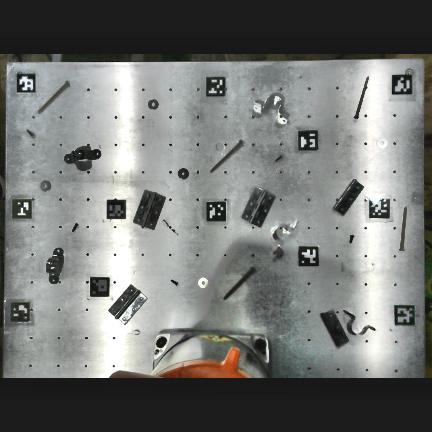black_screw: (170, 280, 180, 286), (72, 223, 78, 232), (348, 235, 353, 242), (275, 156, 279, 161), (29, 133, 33, 137)
clamp: (253, 96, 285, 124), (272, 221, 297, 255), (342, 310, 374, 335), (47, 248, 63, 284), (64, 149, 100, 163)
golden_screw: (210, 141, 242, 172), (223, 268, 254, 299), (37, 81, 68, 112), (353, 77, 368, 118), (399, 207, 405, 251)
hinge: (108, 285, 146, 324), (240, 188, 274, 227), (132, 191, 164, 229), (333, 179, 362, 215), (320, 310, 347, 346)
marker: (394, 304, 415, 325), (12, 198, 32, 219), (370, 198, 390, 218), (299, 246, 319, 266), (298, 130, 318, 150), (206, 75, 226, 95), (10, 300, 29, 321), (207, 201, 226, 222), (392, 75, 412, 94), (17, 73, 36, 93), (107, 200, 126, 219), (90, 278, 109, 296)
washer: (197, 278, 208, 288), (147, 100, 157, 110), (177, 169, 187, 179), (39, 181, 49, 191), (375, 139, 386, 148)
